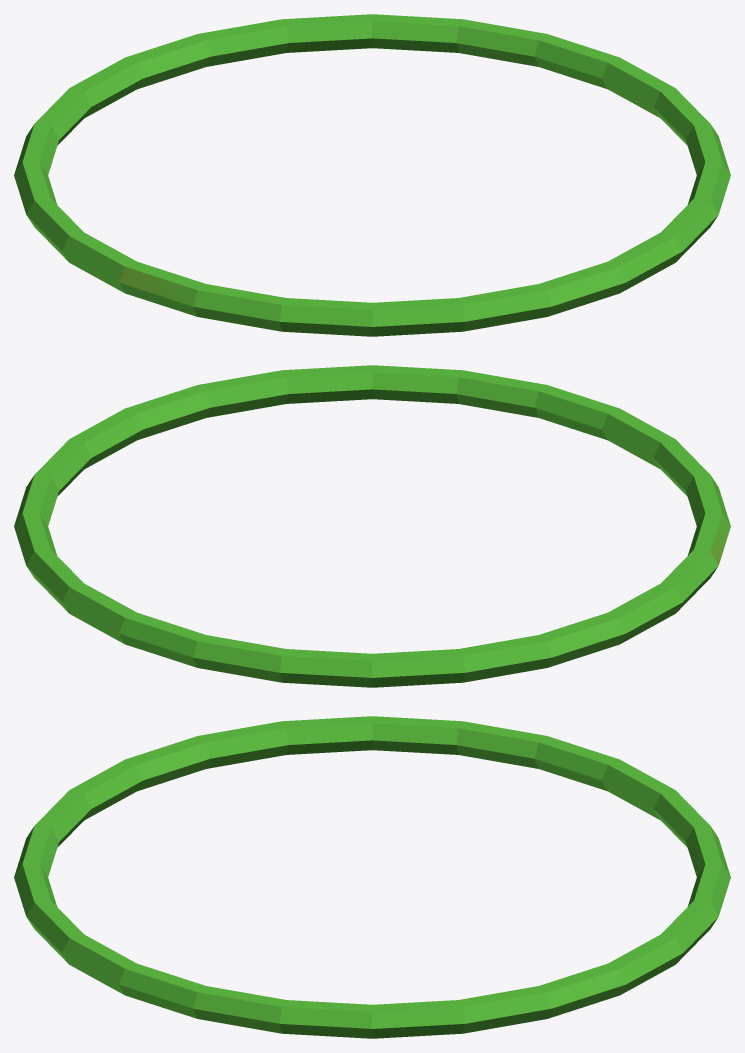
File: Prop_HulaHoop_01.fbx
The picture shows the model from 3 angles, top to bottom: view 1: azimuth 30°, elevation 25°; view 2: azimuth 150°, elevation 25°; view 3: azimuth 270°, elevation 25°; orthographic projection.
Parts seen in each view (by area): view 1: Prop_HulaHoop_01; view 2: Prop_HulaHoop_01; view 3: Prop_HulaHoop_01.
Part boxes in pixels (x1,y1,x2,y2): Prop_HulaHoop_01: (14,14,730,336); Prop_HulaHoop_01: (14,365,730,687); Prop_HulaHoop_01: (14,716,730,1038).
Size of the model in its own units: 63 by 2.6 by 63.
